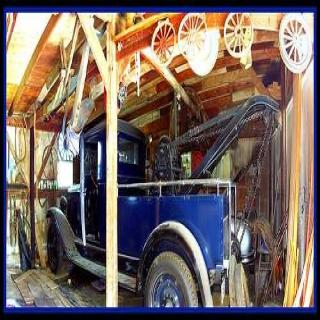Towing_truck: (44, 92, 282, 307)
